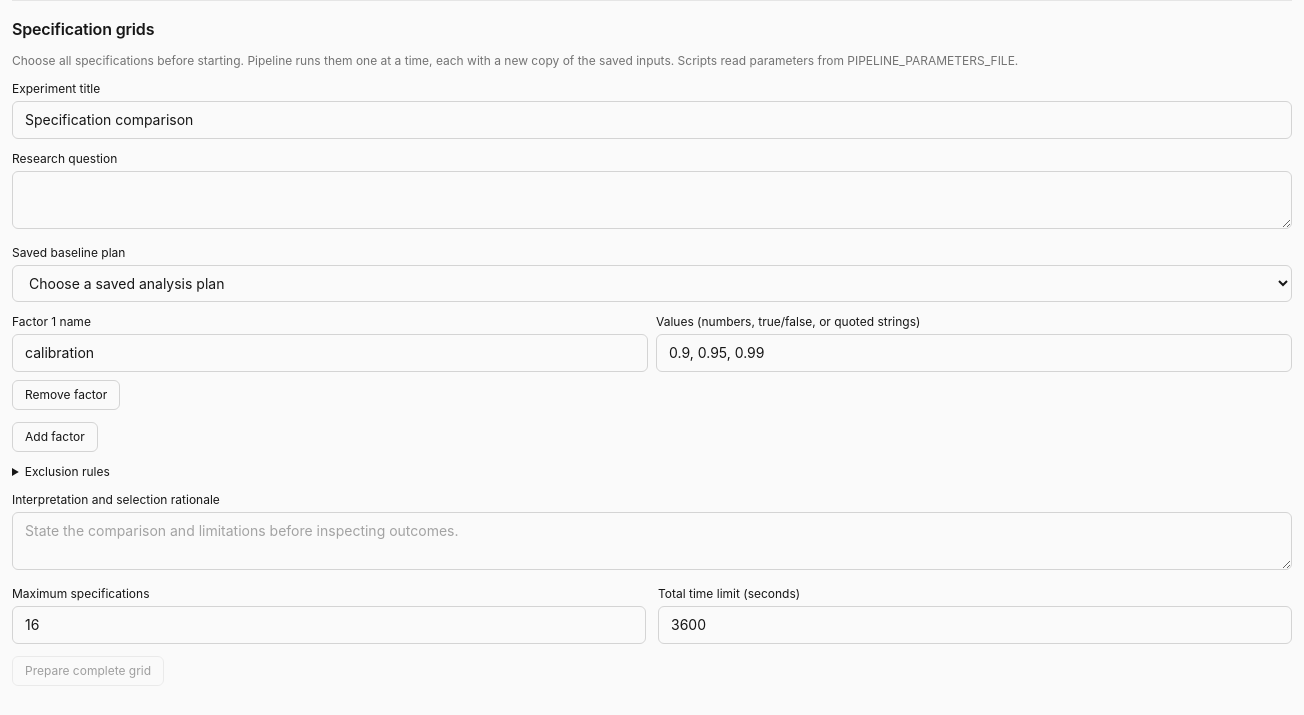
Test: removes a factor from the prepared grid
The width and height of the screenshot is (1304, 715).
What coordinates should you click on to do the following:
click the button "Add factor"
I would click on:
 (55, 437)
Its box is [12,422,98,452].
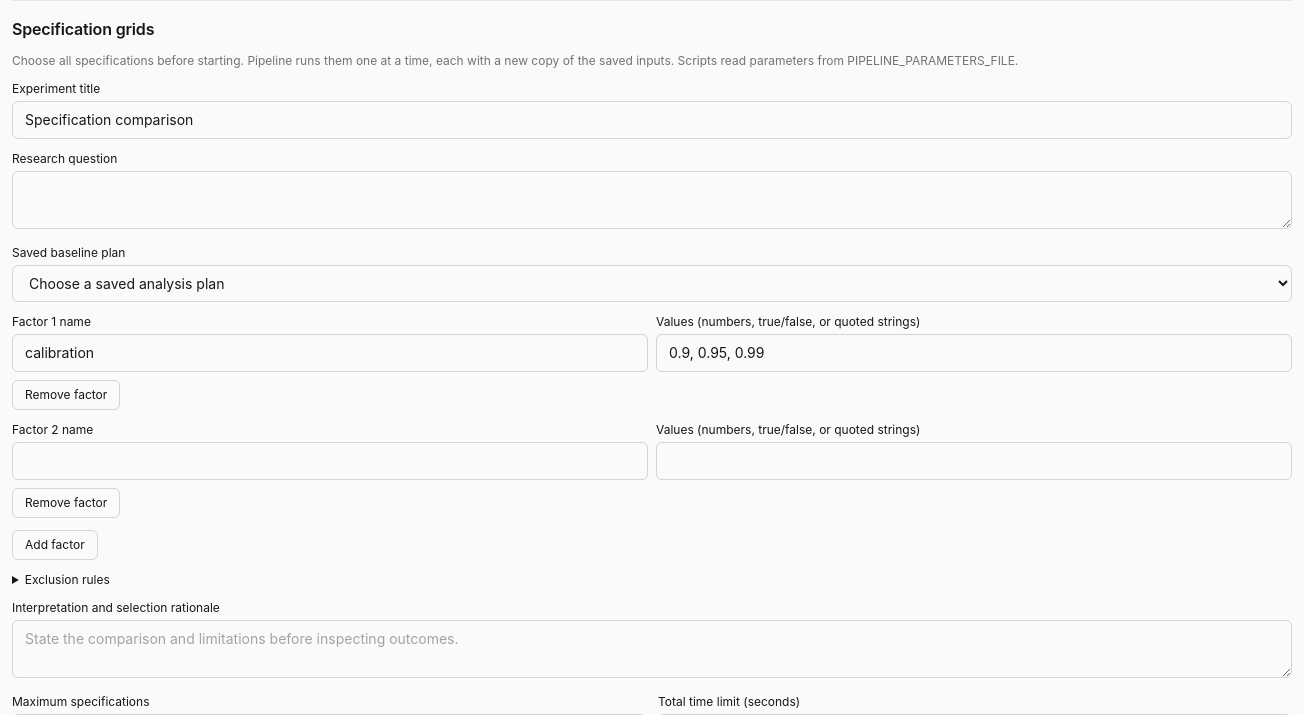
Expected: the field labelled "Factor 2 name" is shown, [12,442,648,480]
What coordinates should you click on to do the following:
click the button with aria-label "Remove factor 1"
I would click on:
 (66, 395)
Its box is [12,380,120,410].
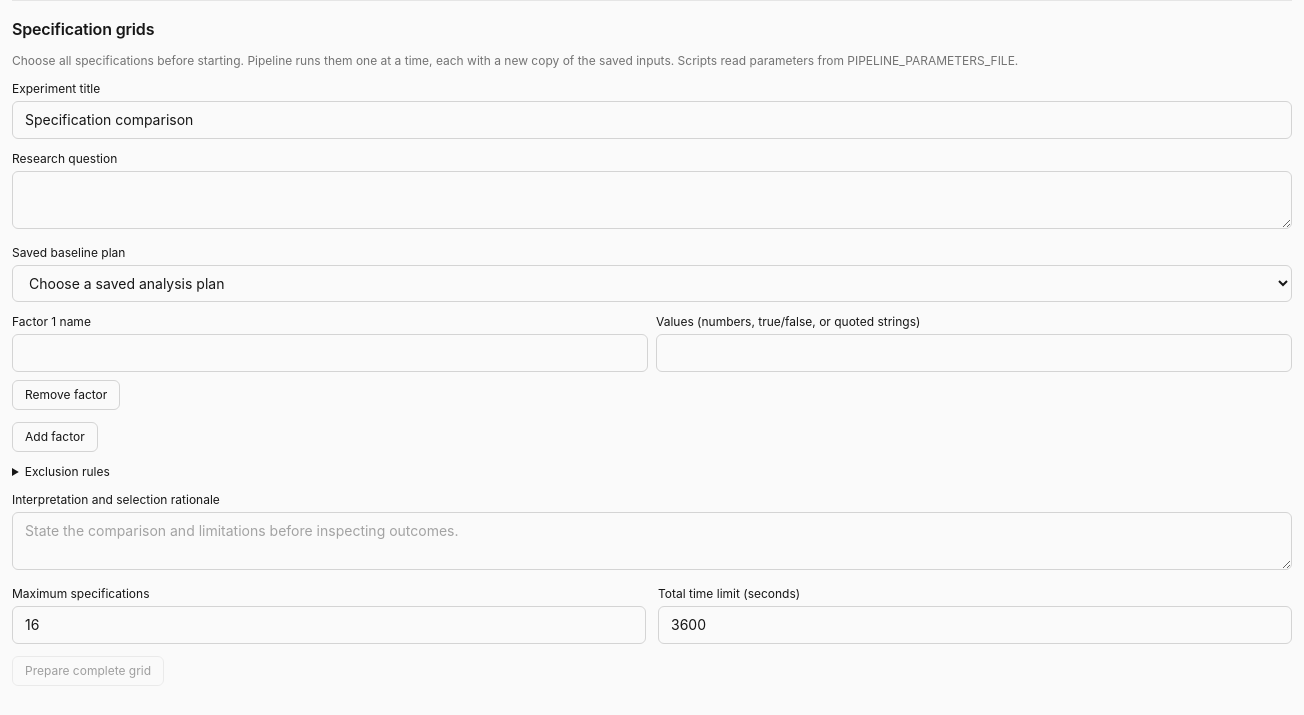
Expected: the text labelled "Factor 2 name" is gone
Expected: the field labelled "Factor 1 name" is empty, [12,334,648,372]
